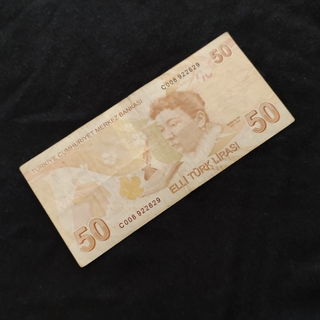50TLBack: (18, 31, 296, 269)
